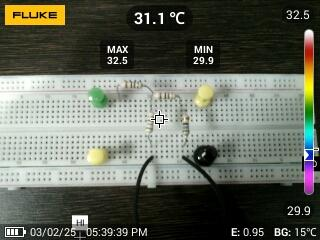resistor: (178, 113, 194, 138), (117, 78, 145, 92), (153, 90, 180, 104), (144, 107, 157, 135)
